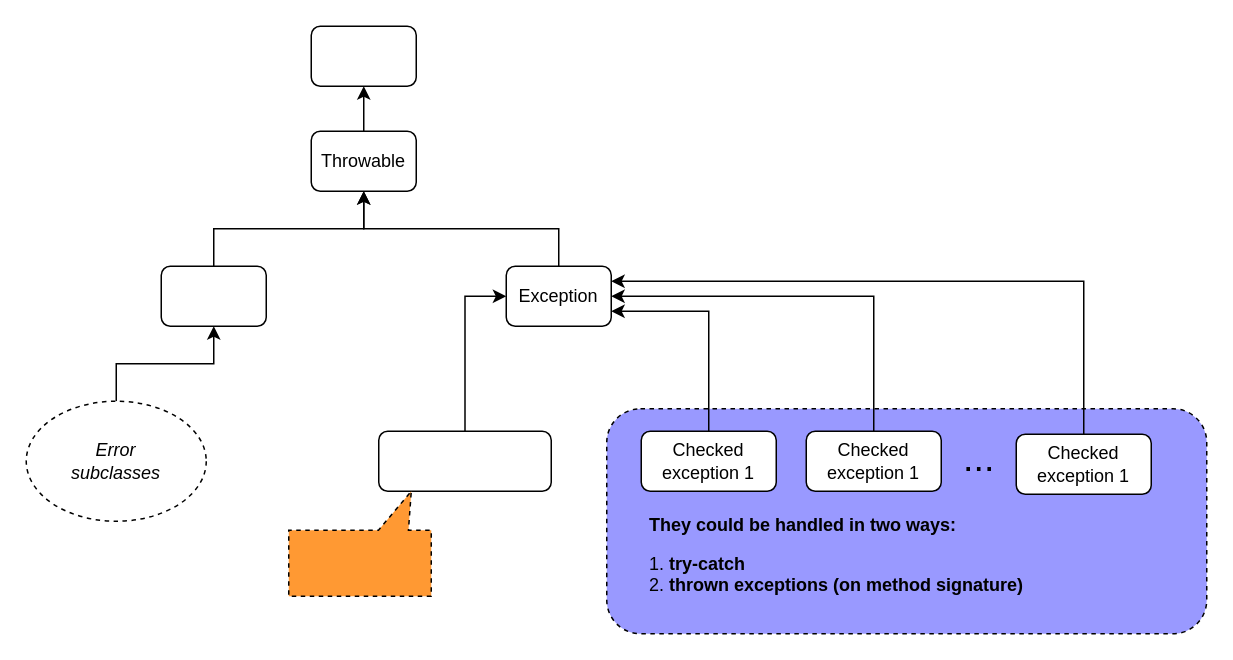
The diagram is 1233 pixels wide and 660 high, and some of its shapes have lost their labels. Each missing label, with the centre of its shape:
"Error" goes at [213,295].
"Object" goes at [363,55].
"RuntimeException" goes at [464,460].
"Unchecked exceptions" goes at [359,543].
